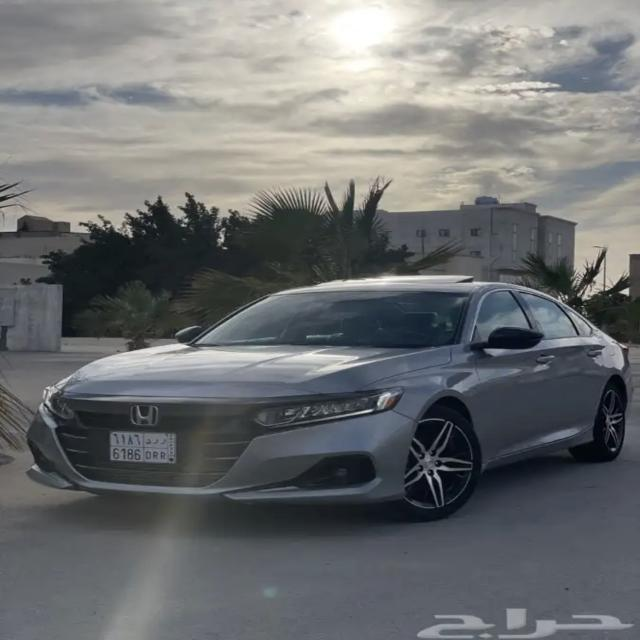license_plate: (110, 430, 178, 465)
